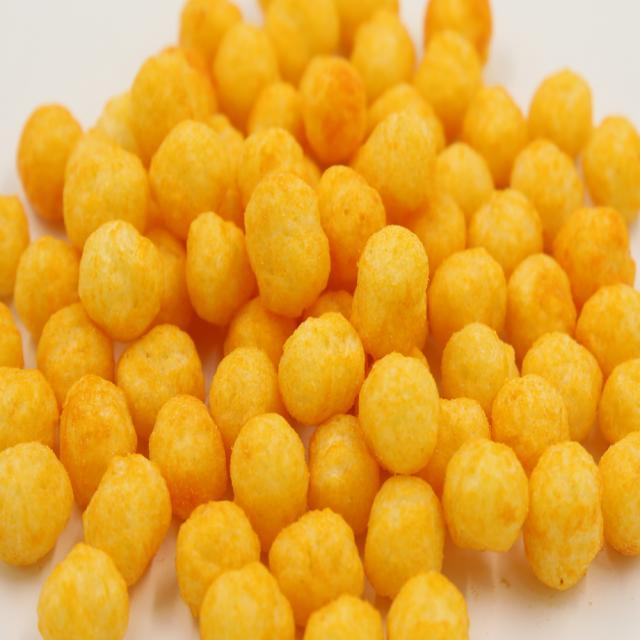Chips packaged: (19, 105, 631, 597)
